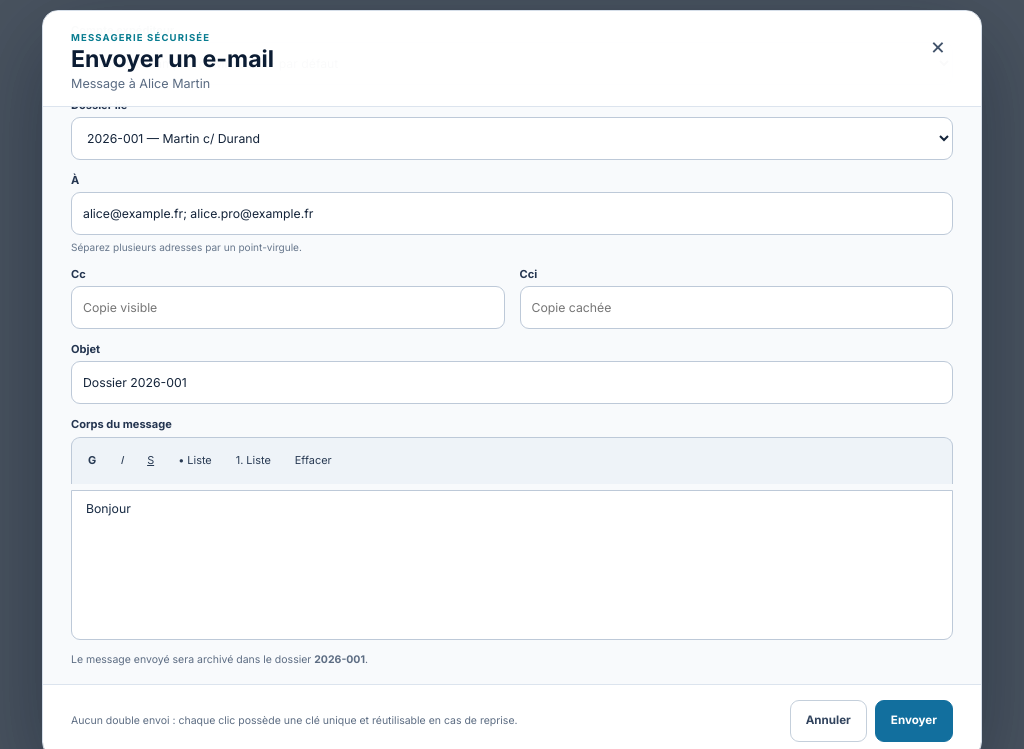
Test: EmailComposeModal › préremplit le compte, le dossier et toutes les adresses puis protège le double clic
(page scrolled)
Expected: the field showing "alice@example.fr; alice.pro@example.fr" is shown, [71,192,953,235]
Expected: the dropdown labelled "Compte expéditeur" shows "cabinet@example.fr · Microsoft · par défaut", [71,42,953,85]
Click the button "Envoyer" at point(914, 721), box [875,700,953,742]
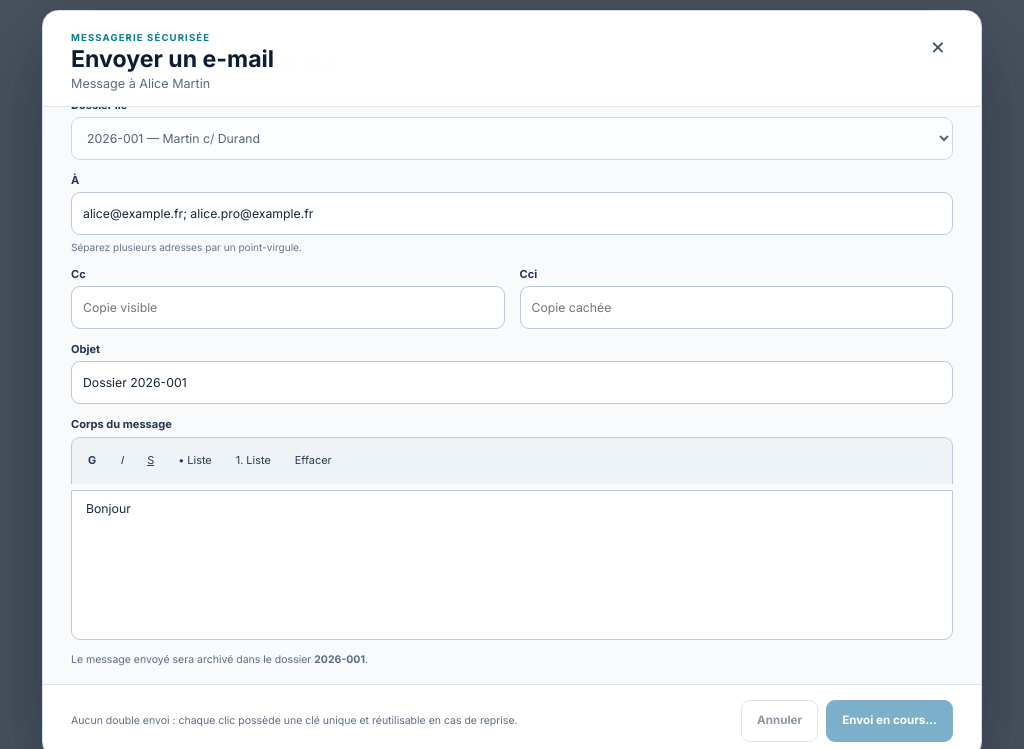
Click the button named "Envoyer" at point(890, 721), box [826,700,953,742]
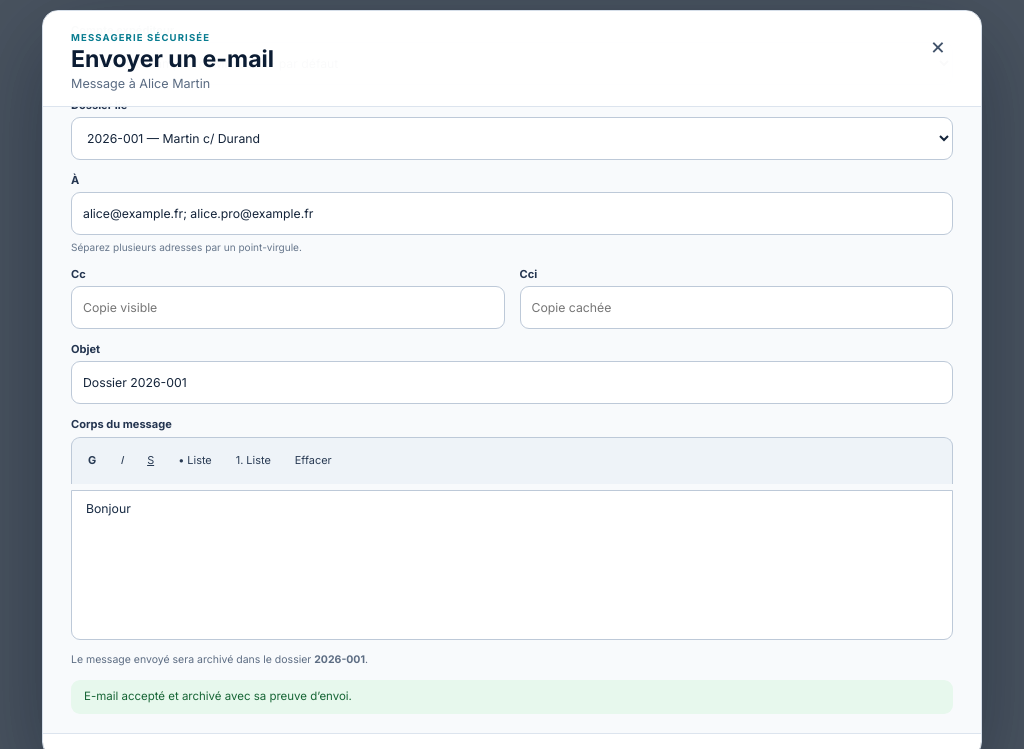
Expected: the text "E-mail accepté et archivé avec sa preuve d’envoi." is shown, [71,680,953,714]
